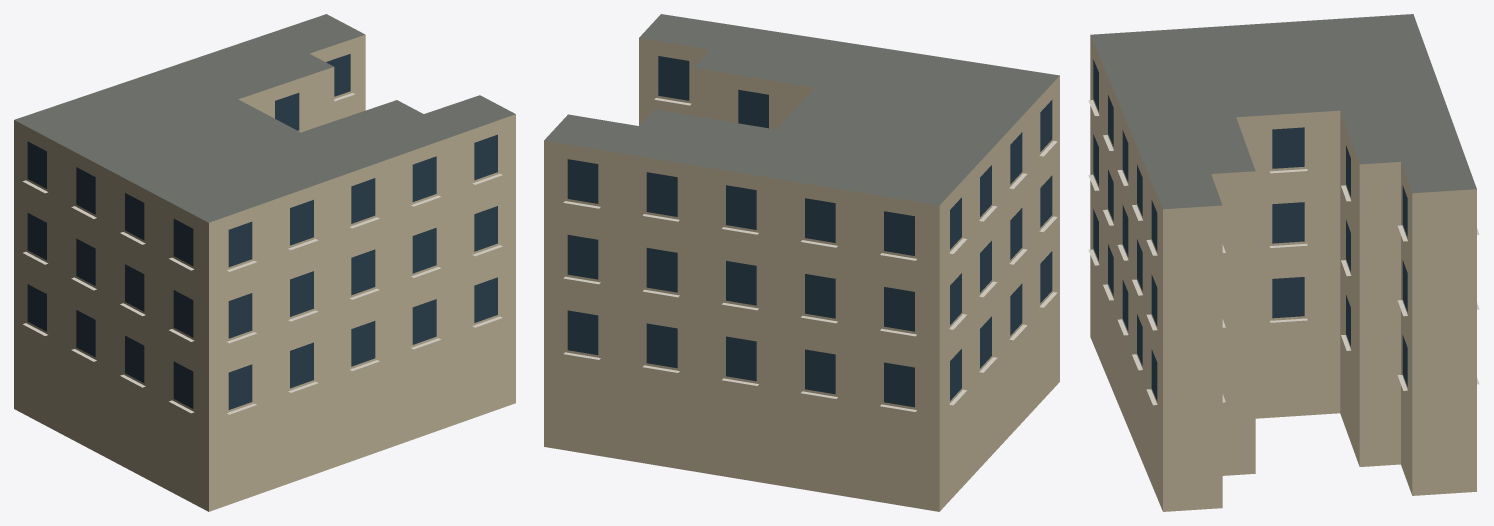
3 renders of one model, left to right at view 1: azimuth 30°, elevation 25°; view 2: azimuth 150°, elevation 25°; view 3: azimuth 270°, elevation 25°, orthographic. The views are drawn at different scales.
Parts seen in each view (by area): view 1: Footprint 0, Inferred window bays, Window sills; view 2: Footprint 0, Inferred window bays, Window sills; view 3: Footprint 0, Inferred window bays, Window sills.
Boxes of the visible parts, left/top/right/bottom form: Footprint 0: left=14, top=14, right=515, bottom=511; Inferred window bays: left=27, top=54, right=497, bottom=409; Window sills: left=22, top=93, right=502, bottom=414; Footprint 0: left=544, top=14, right=1059, bottom=511; Inferred window bays: left=567, top=56, right=1052, bottom=407; Window sills: left=563, top=98, right=1057, bottom=411; Footprint 0: left=1090, top=14, right=1476, bottom=511; Inferred window bays: left=1093, top=59, right=1407, bottom=400; Window sills: left=1088, top=100, right=1479, bottom=405.
Bounding box in the file's own units: 17.65 × 12.68 × 14.85.
